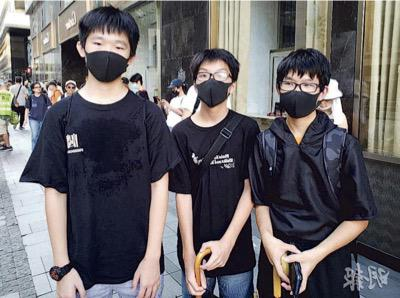mask_weared_incorrect: (317, 98, 332, 115)
with_mask: (82, 35, 130, 83), (278, 75, 318, 119), (194, 67, 229, 108), (170, 86, 179, 98), (129, 81, 138, 91)
without_mask: (64, 83, 74, 96), (31, 83, 41, 94)
